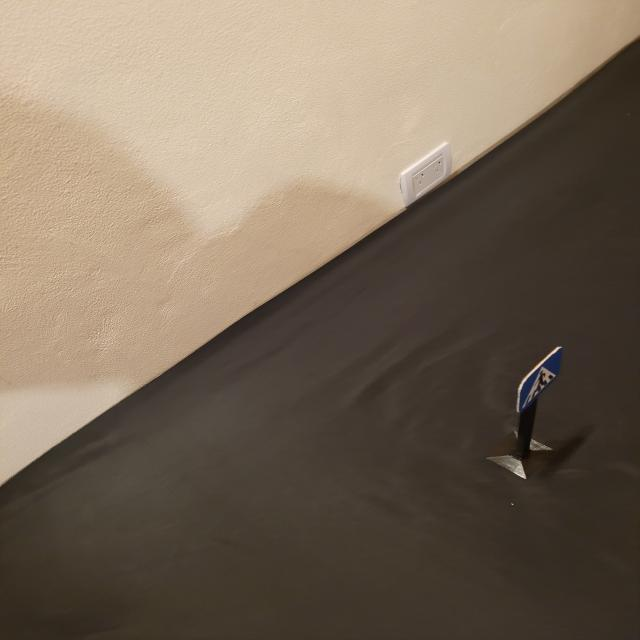crosswalk: (512, 347, 566, 416)
